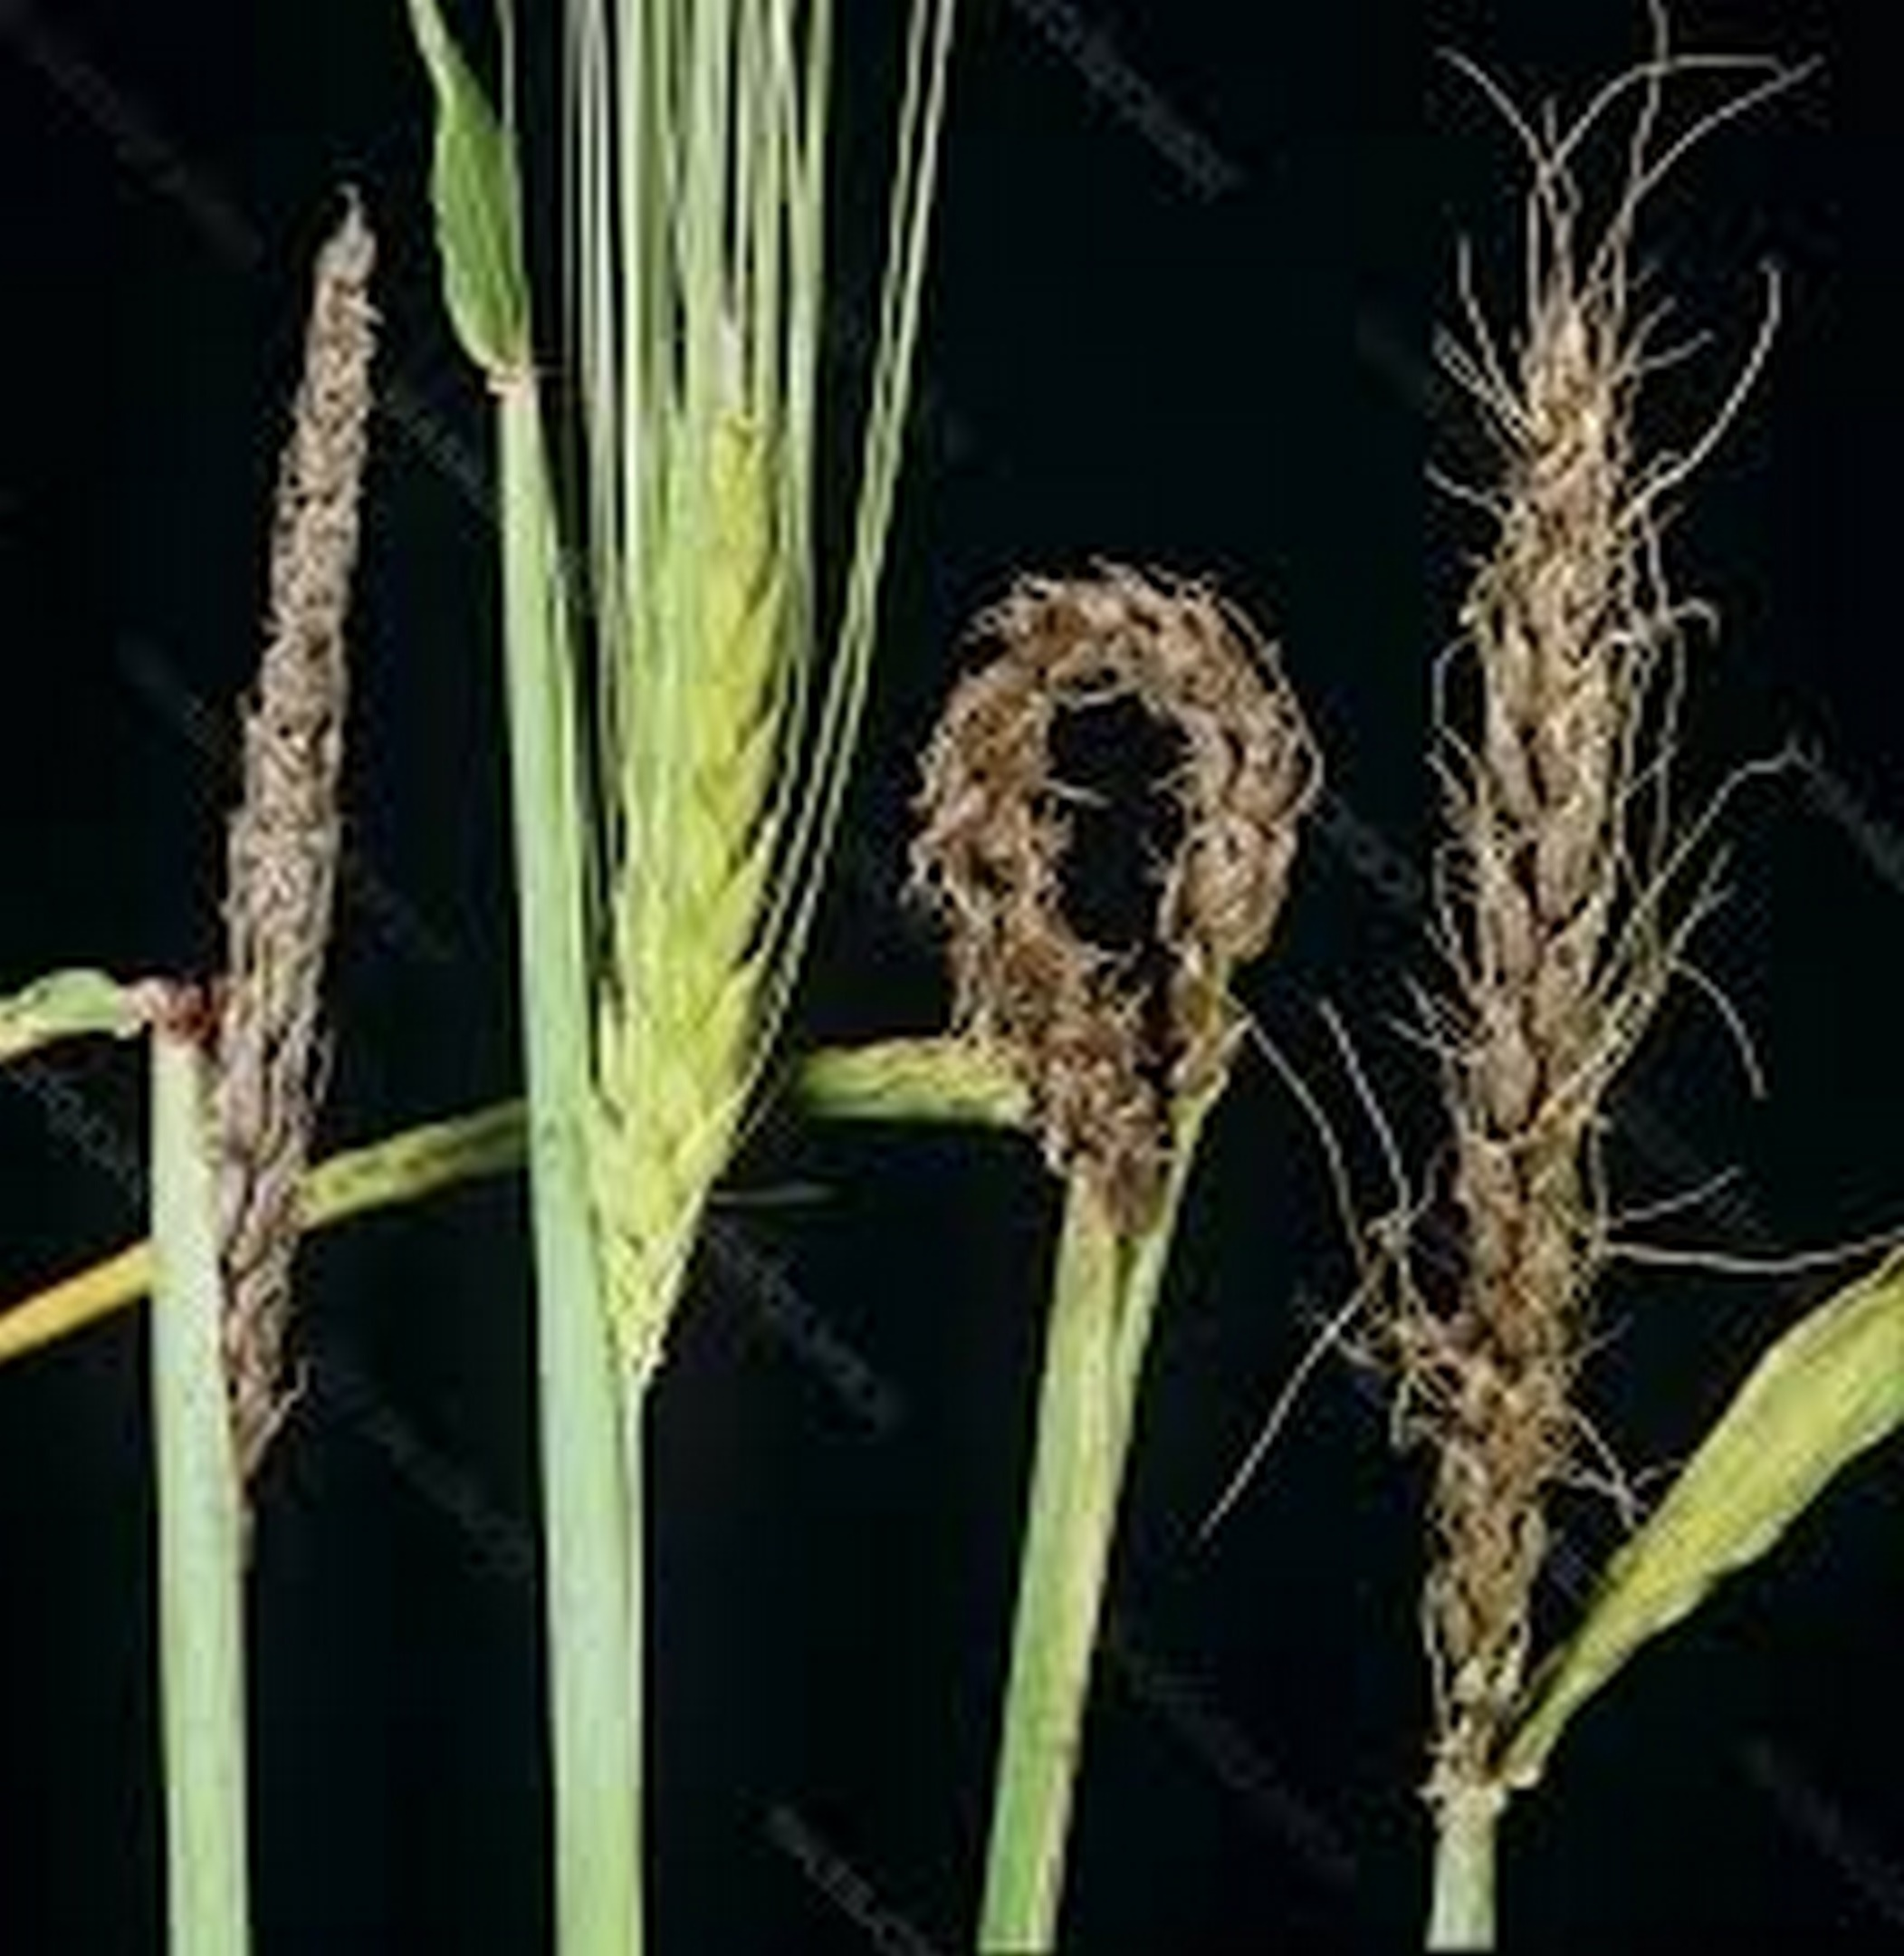Wheat Loose Smut: (1380, 229, 1663, 1746)
